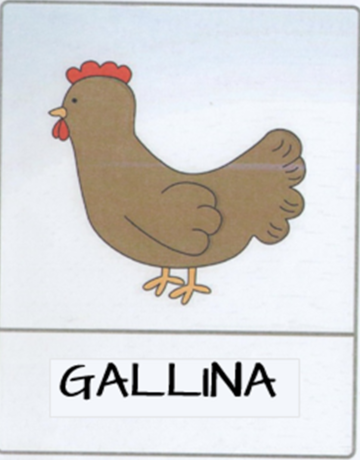gallina: (3, 16, 349, 441)
